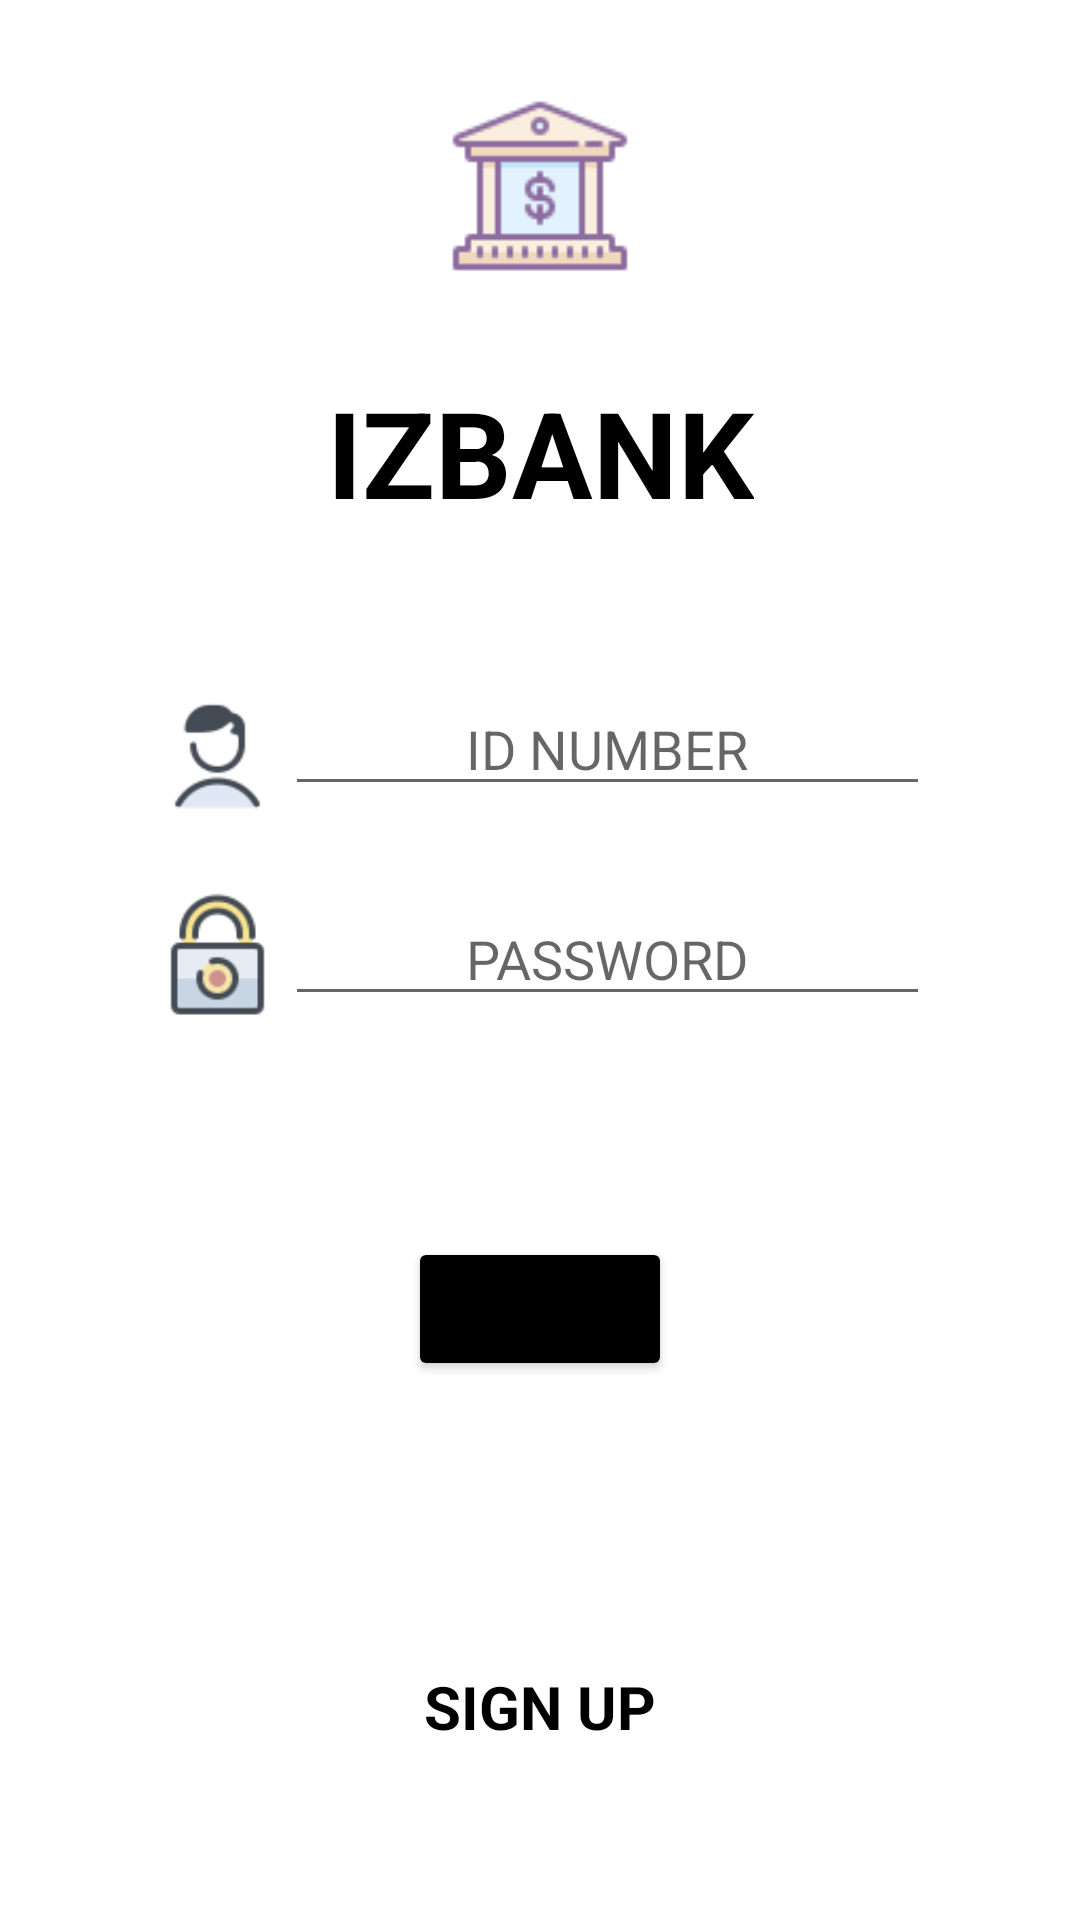

Named icons in this screenshot (1080px×1920px) and their bounding boxes, (x1, y1, x2, y2):
lock: (170, 894, 265, 1015)
user: (175, 704, 260, 809)
